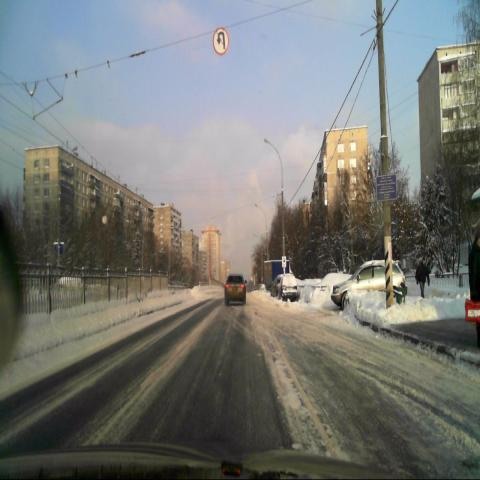3_19: (212, 26, 230, 57)
